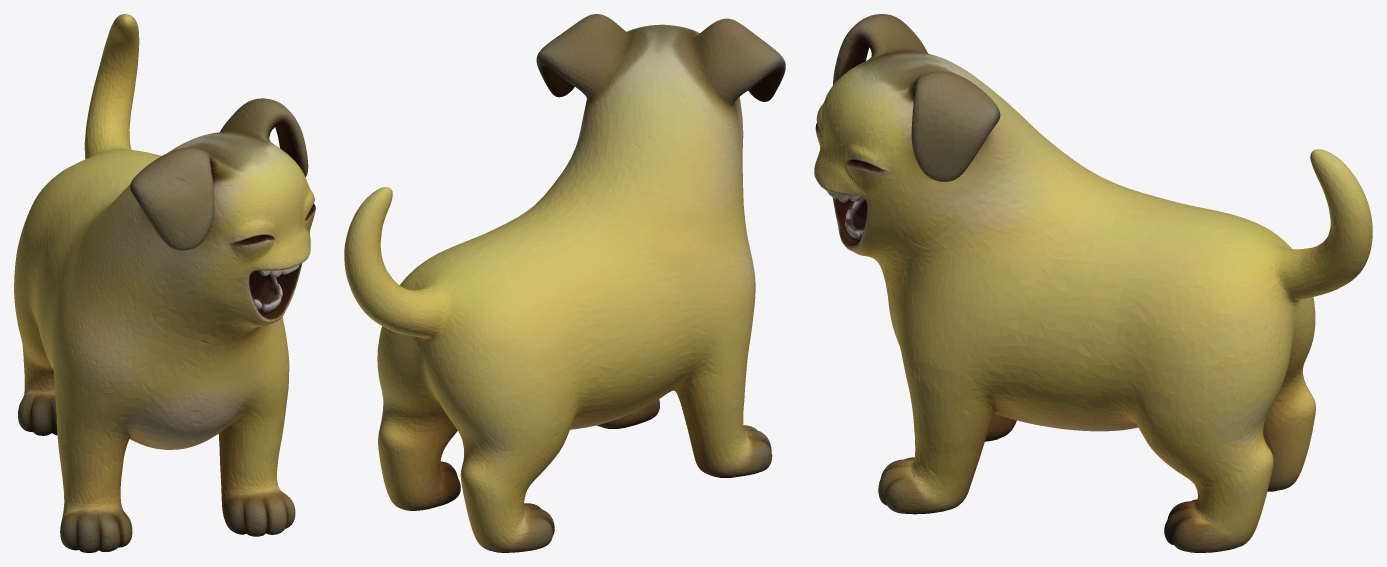
Rendered from naigou.glb.
3 views of the same model, side by side, from view 1: azimuth 30°, elevation 25°; view 2: azimuth 150°, elevation 25°; view 3: azimuth 270°, elevation 25° (orthographic). The views are drawn at different scales.
Visible parts, largest first — view 1: geometry_0; view 2: geometry_0; view 3: geometry_0.
Boxes of the visible parts, bbox=[...] form: geometry_0: bbox=[14, 14, 315, 552]; geometry_0: bbox=[344, 14, 785, 552]; geometry_0: bbox=[814, 14, 1372, 552].
Size of the model in its own units: 0.6099 by 0.873 by 0.9999.
Materials: 1 (1 with a texture image).
